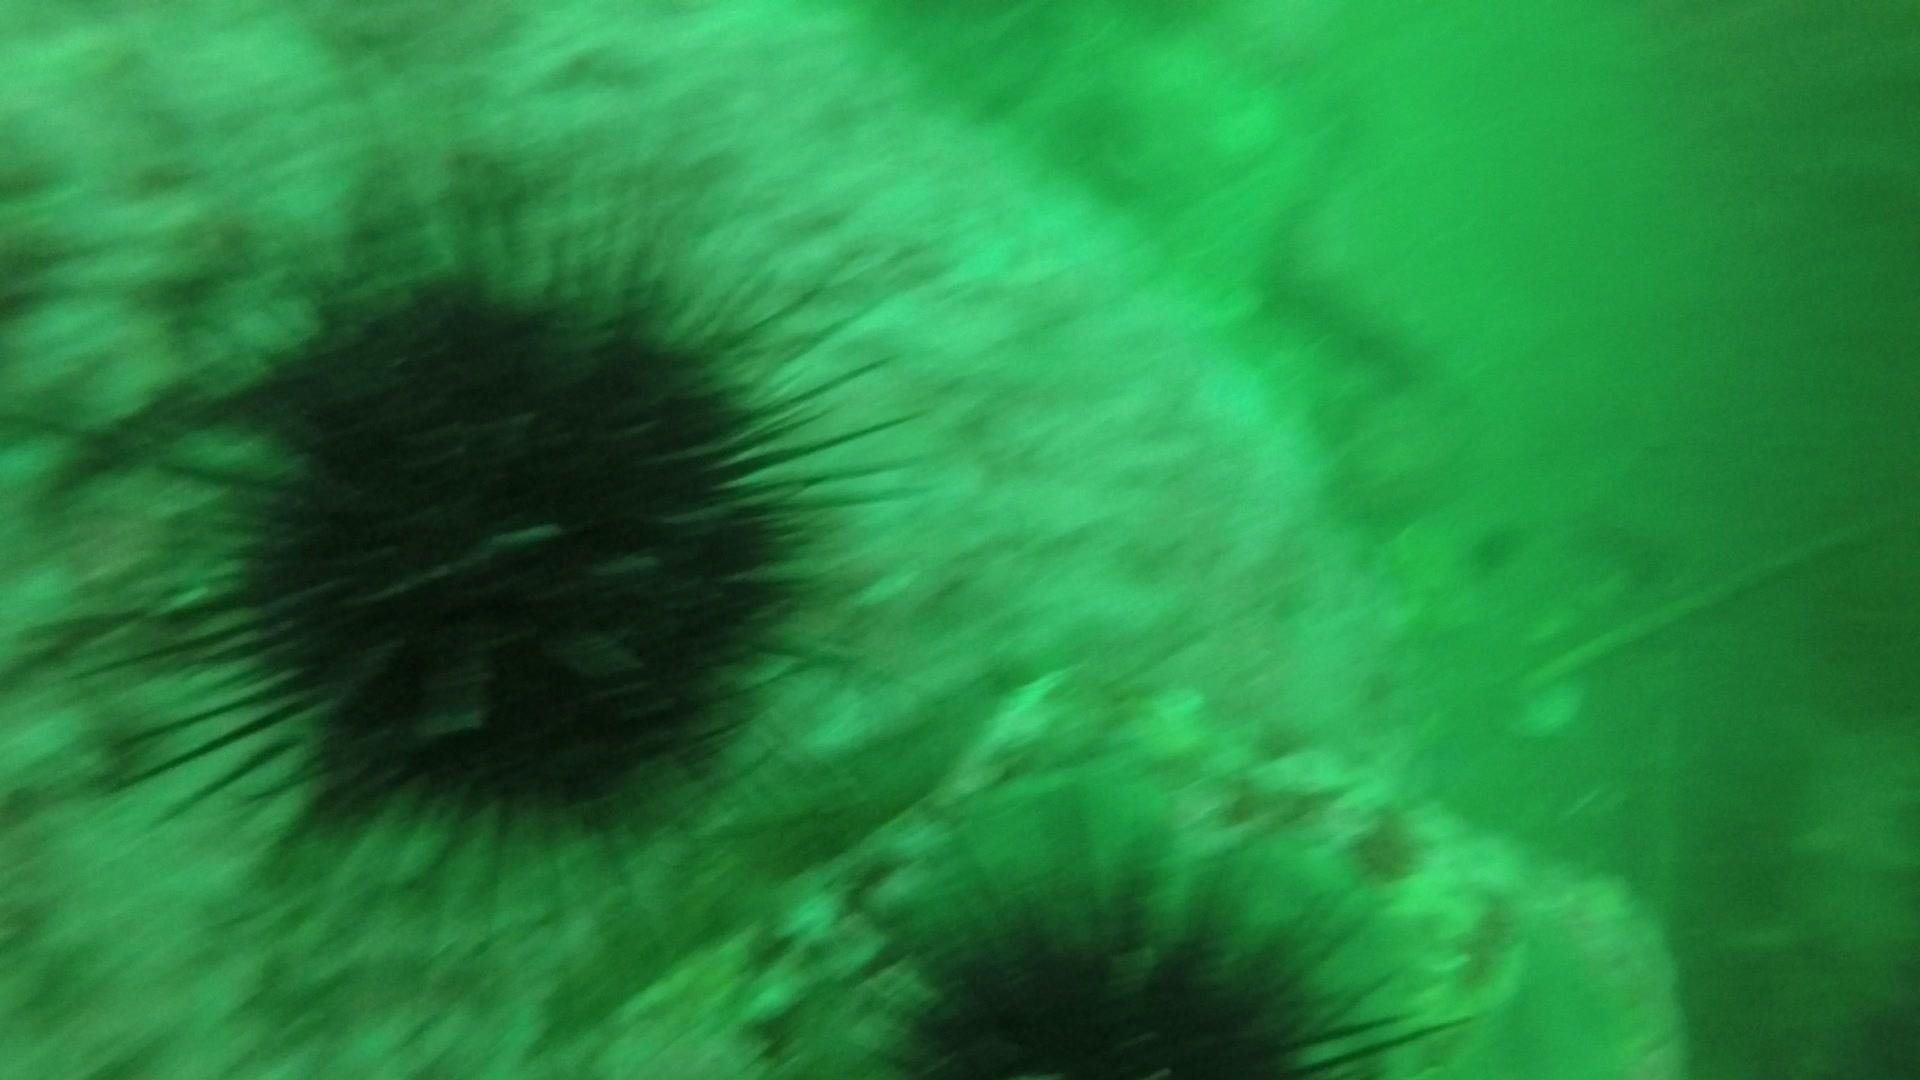echinus: (112, 204, 891, 872), (882, 866, 1403, 1075)
